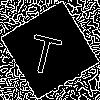T: (25, 25, 65, 77)
